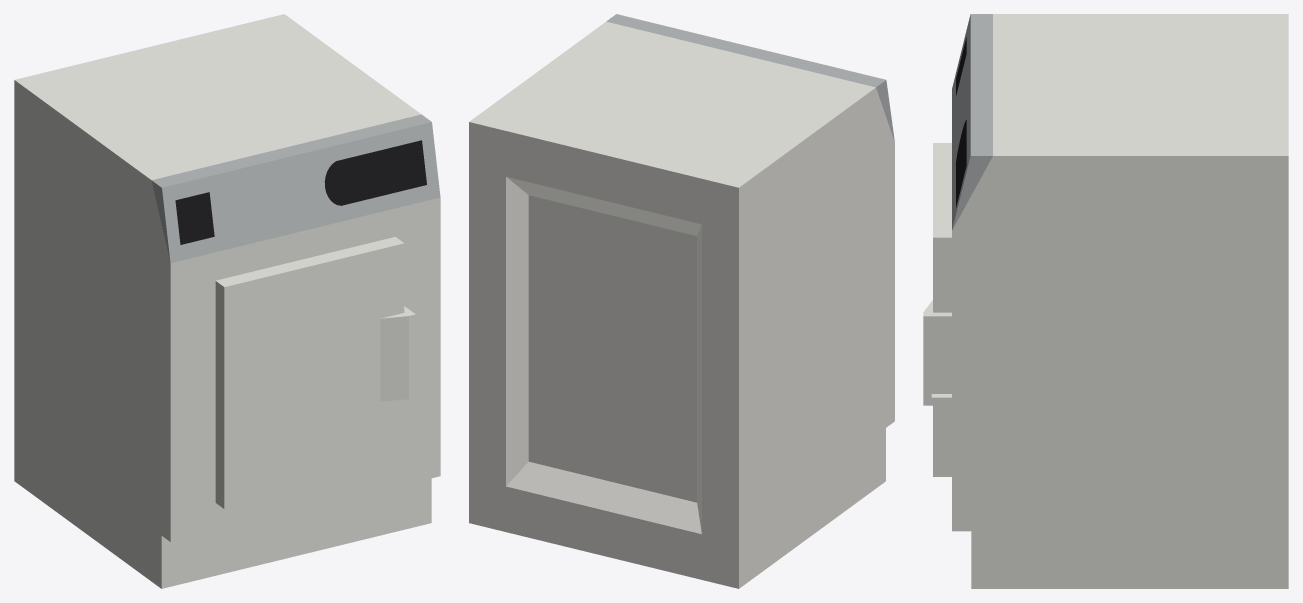
The model's file is pk_dryer_white.glb.
3 renders of one model, left to right at view 1: azimuth 30°, elevation 25°; view 2: azimuth 150°, elevation 25°; view 3: azimuth 270°, elevation 25°, orthographic. The views are drawn at different scales.
Visible parts, largest first — view 1: pk_dryer_white; view 2: pk_dryer_white; view 3: pk_dryer_white.
Boxes of the visible parts, box(x1,y1,x2,y2) form: pk_dryer_white: box(14, 14, 440, 588); pk_dryer_white: box(469, 14, 894, 588); pk_dryer_white: box(923, 14, 1288, 588).
Bounding box in the file's own units: 0.69 × 0.98 × 0.75.
Materials: 1 (1 with a texture image).
